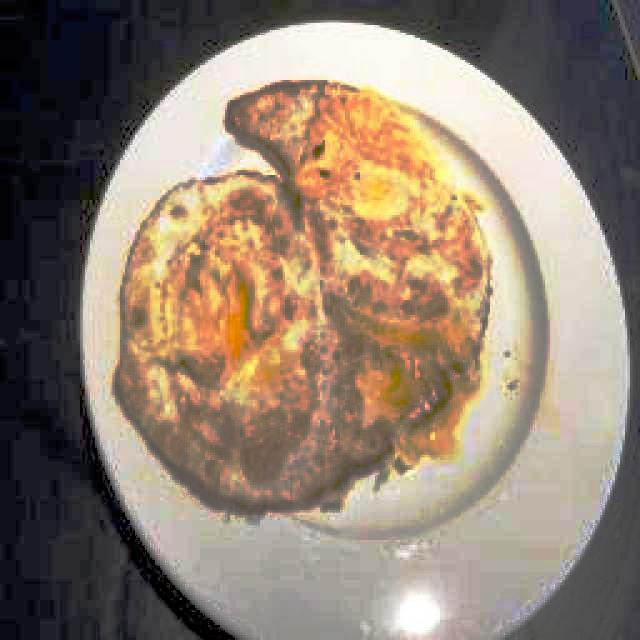fried_eggs: (121, 77, 492, 510)
